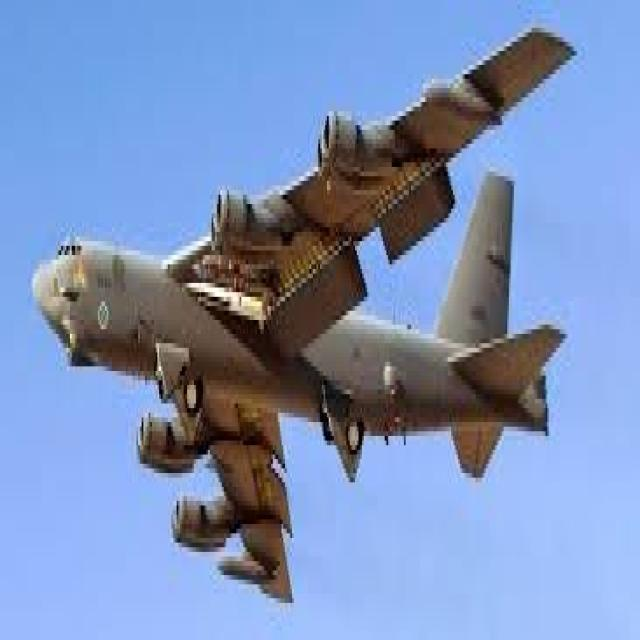B52: (11, 5, 598, 640)
